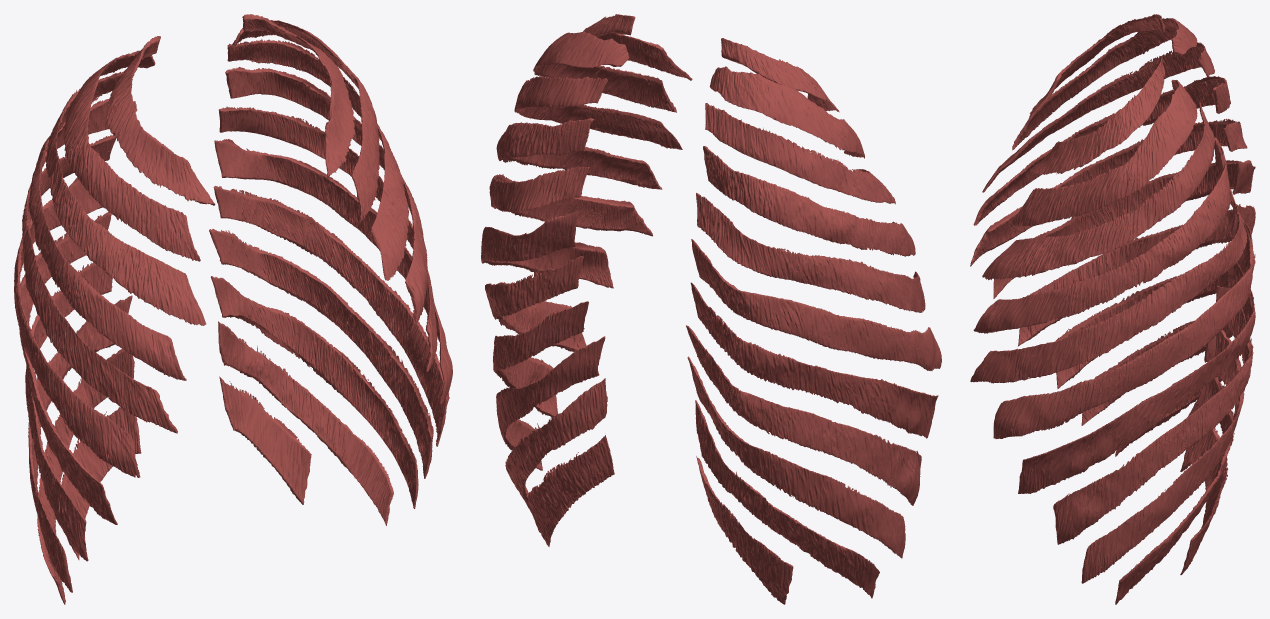
Rendered from FMA9756.glb.
3 views of the same model, side by side, from view 1: azimuth 30°, elevation 25°; view 2: azimuth 150°, elevation 25°; view 3: azimuth 270°, elevation 25° (orthographic). The views are drawn at different scales.
Visible parts, largest first — view 1: FMA9756; view 2: FMA9756; view 3: FMA9756.
Part boxes in pixels (bbox=[...]): FMA9756: bbox=[14, 14, 452, 604]; FMA9756: bbox=[481, 14, 941, 604]; FMA9756: bbox=[970, 14, 1255, 604].
Bounding box in the file's own units: 0.2729 × 0.3602 × 0.1888.
